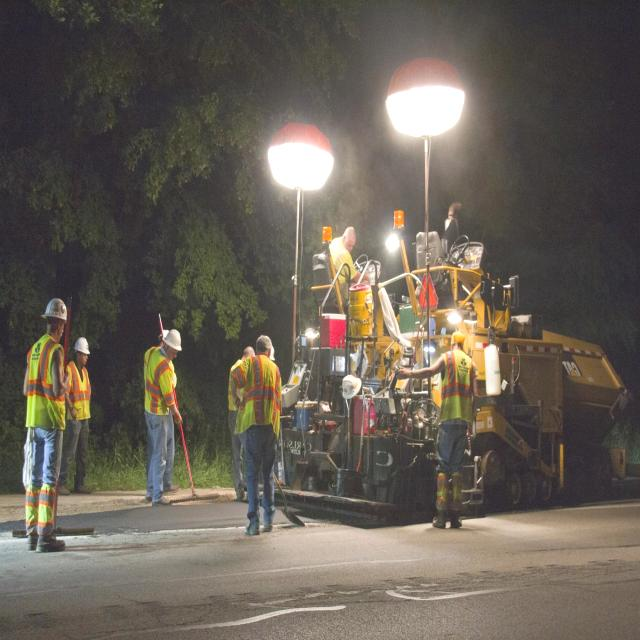head_helmet: (43, 296, 70, 320), (164, 328, 182, 347), (444, 331, 464, 348), (74, 336, 92, 354)
head_nohelmet: (345, 223, 358, 251), (255, 329, 272, 350)
person: (25, 299, 70, 550), (431, 331, 472, 530), (143, 328, 185, 504), (245, 338, 279, 536), (222, 344, 252, 502), (64, 337, 94, 494), (330, 218, 359, 286)
shoes: (34, 523, 70, 553), (432, 506, 449, 532), (245, 518, 262, 542), (74, 477, 95, 496), (450, 503, 464, 531), (260, 513, 276, 537), (150, 489, 171, 507), (160, 478, 181, 496)
vest: (24, 345, 62, 426), (434, 352, 475, 422), (243, 364, 278, 424), (146, 357, 170, 415), (69, 369, 91, 414), (325, 243, 350, 273), (226, 363, 242, 404)
